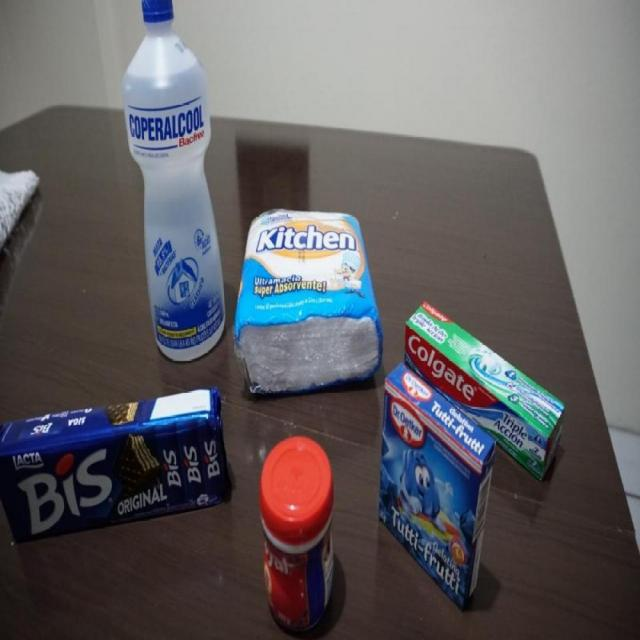AlcoholBottle: (127, 4, 228, 362)
Gelatine: (382, 364, 492, 607)
Napkin: (240, 208, 384, 400)
Toothpaste: (494, 349, 570, 498)
Yeast: (258, 433, 346, 638)
